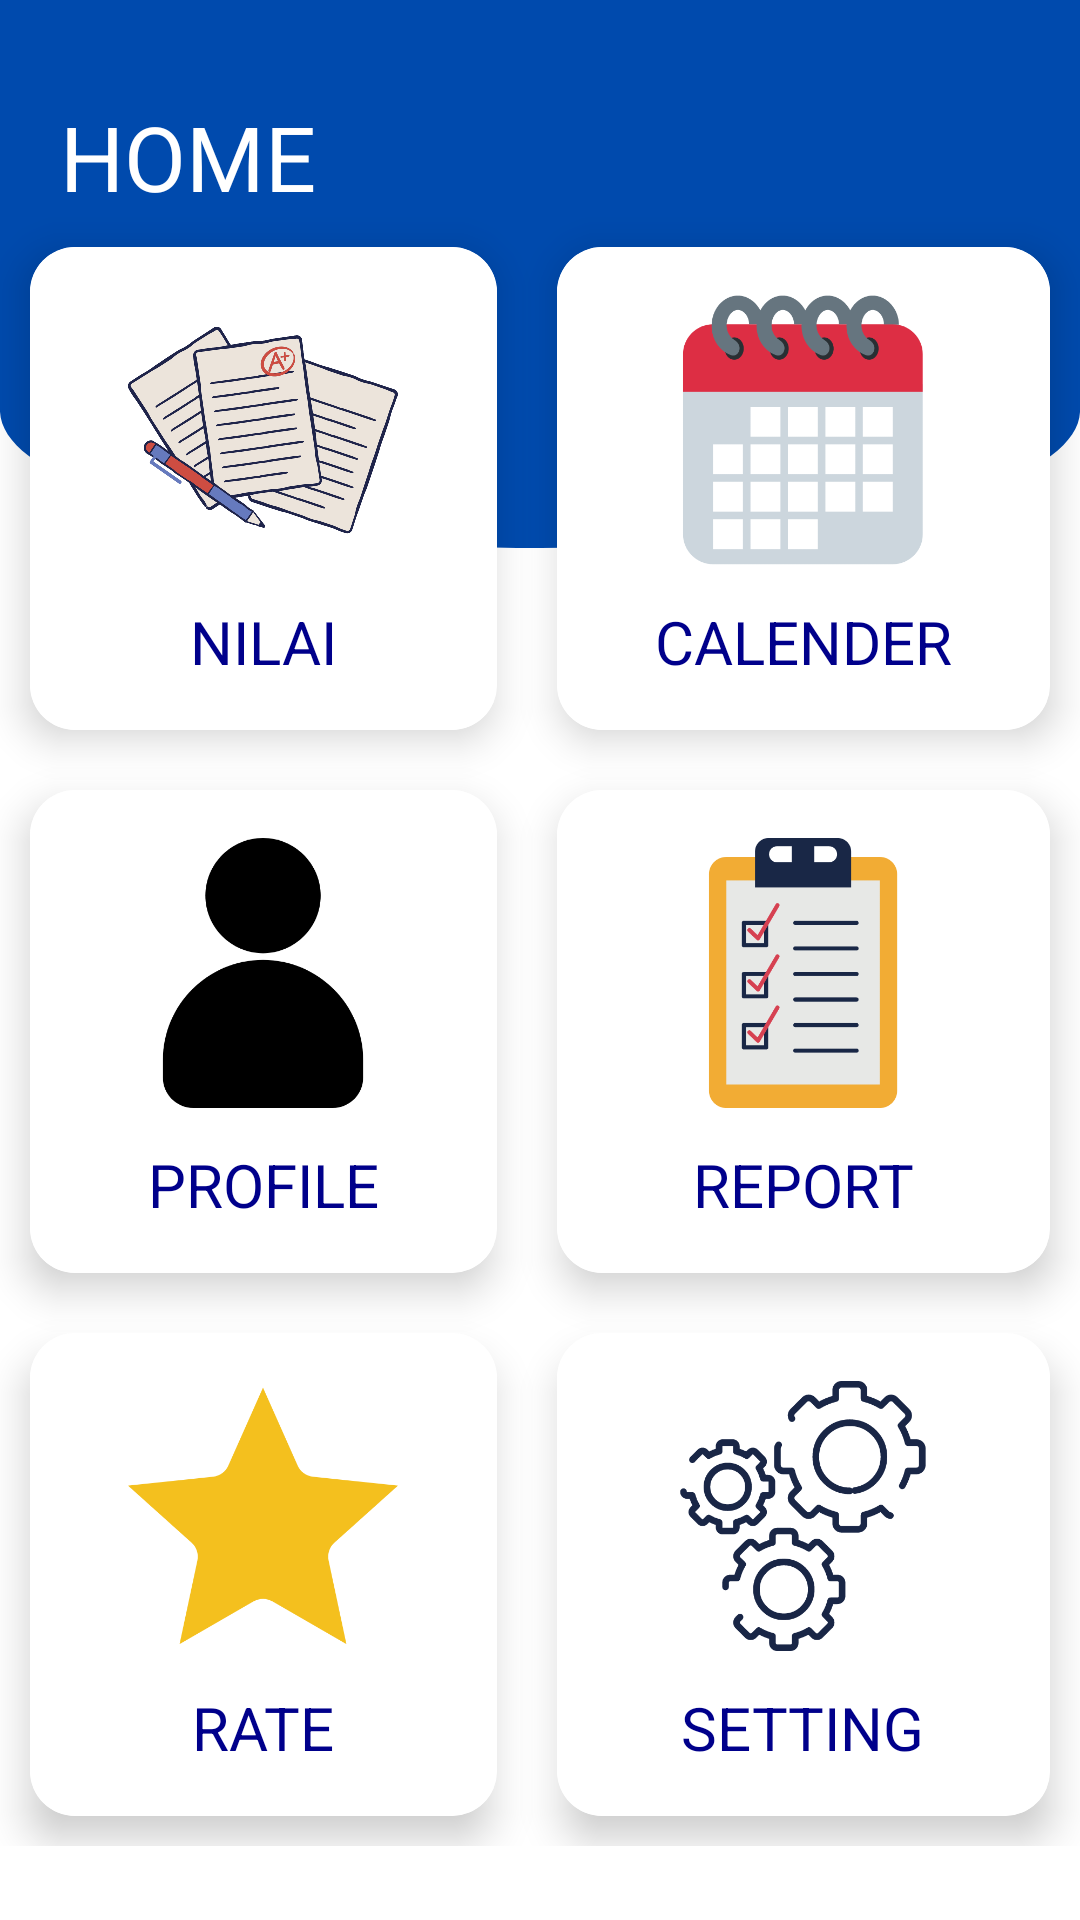

Where icons sit on this 1080 x 1920 app screen, as (x1, y1, x2, y2):
star: (128, 1388, 398, 1644)
